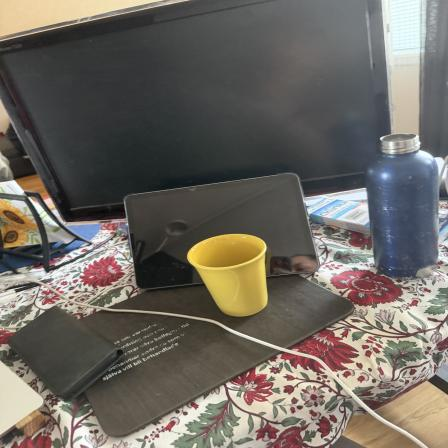blue_bottle: (368, 133, 441, 279)
phone: (2, 307, 123, 399)
yellow_cup: (186, 234, 270, 318)
